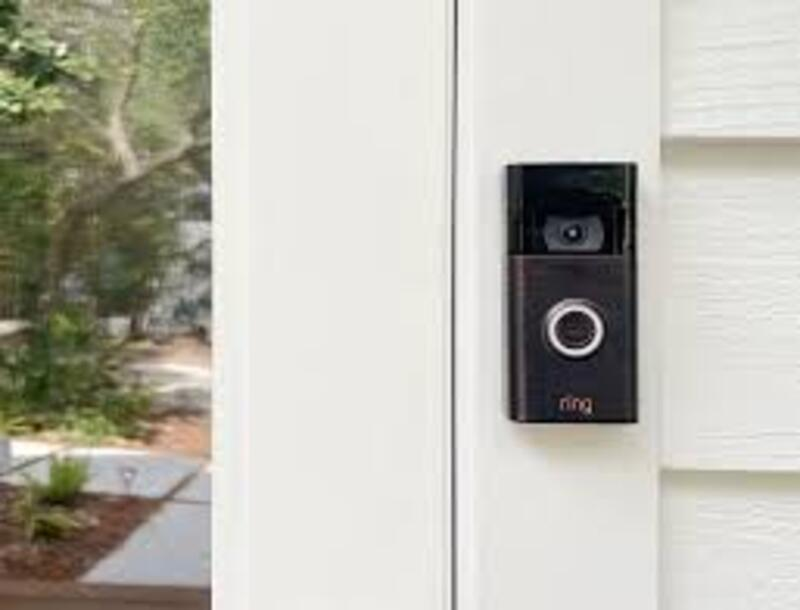doorbell: (494, 151, 644, 436)
